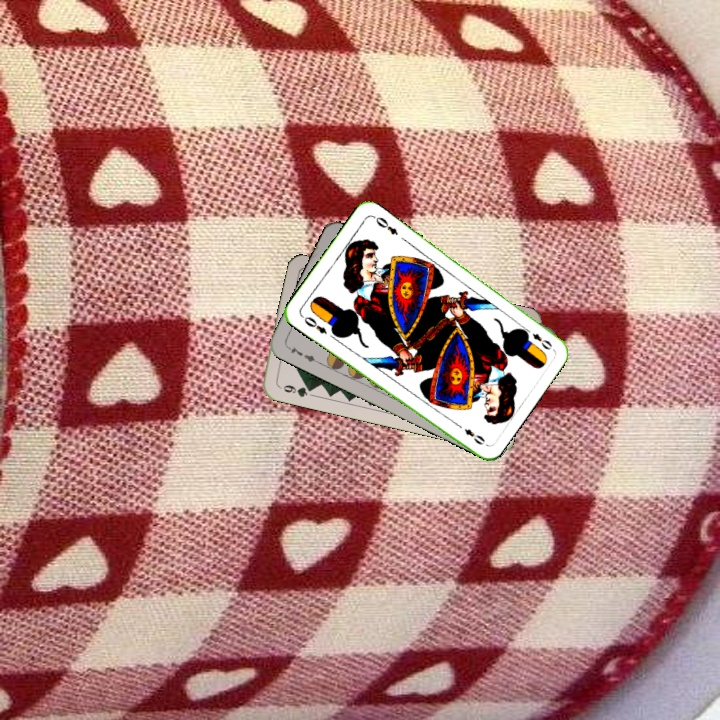E7: (283, 342, 321, 366)
EO: (520, 324, 555, 353), (298, 311, 329, 337)
G9: (274, 381, 316, 400)
